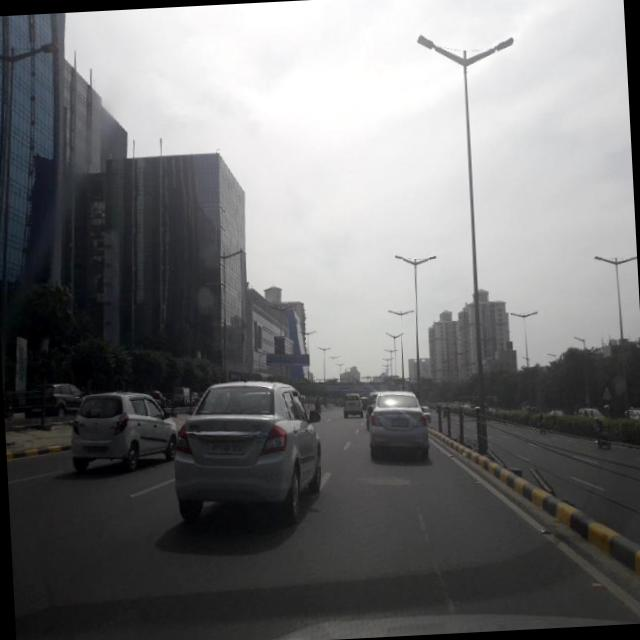pothole: (402, 482, 458, 612)
